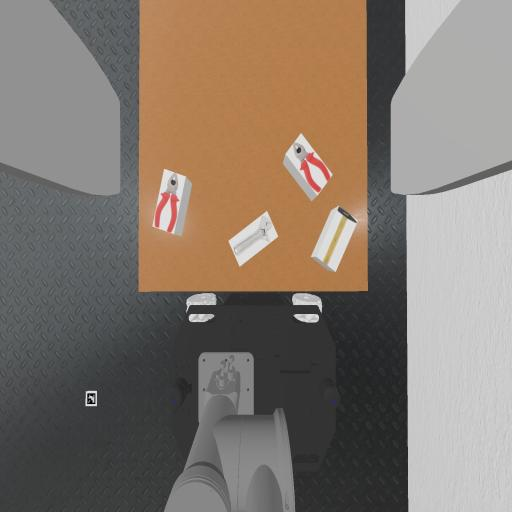hammer: (323, 207, 356, 264)
pliers: (294, 143, 329, 192), (155, 173, 179, 232)
wrench: (234, 218, 272, 254)
